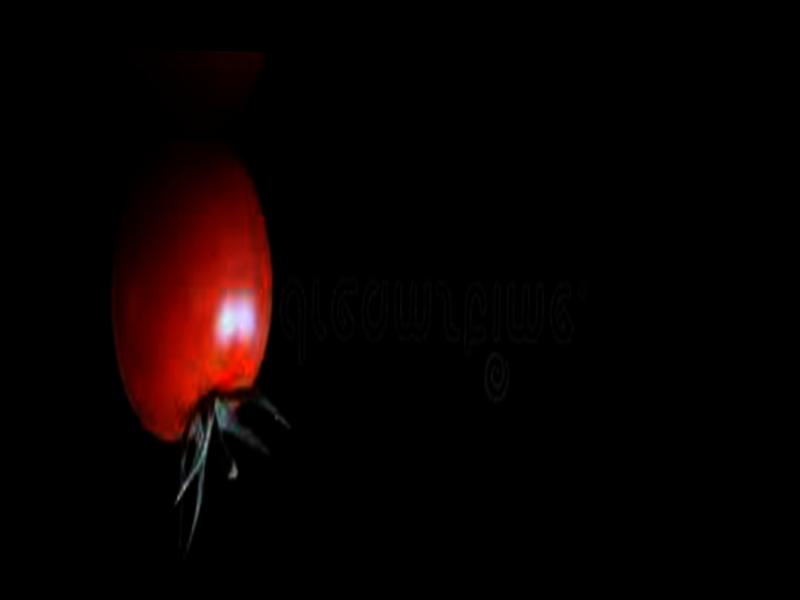Tomato: (109, 139, 275, 446)
